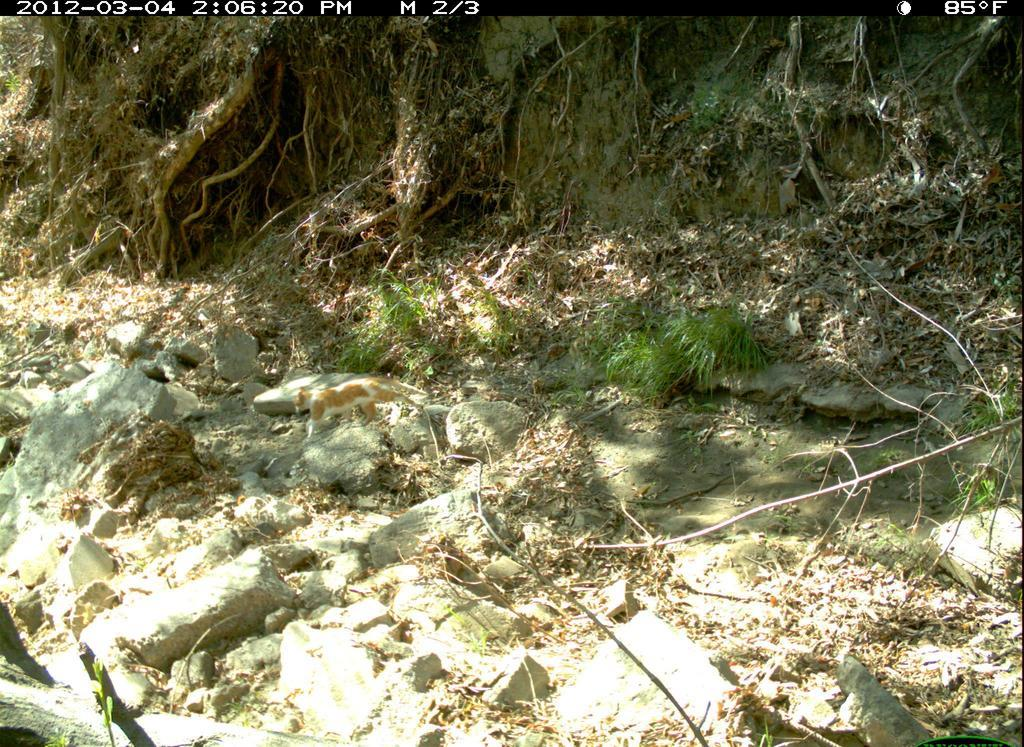cat: (280, 370, 437, 451)
